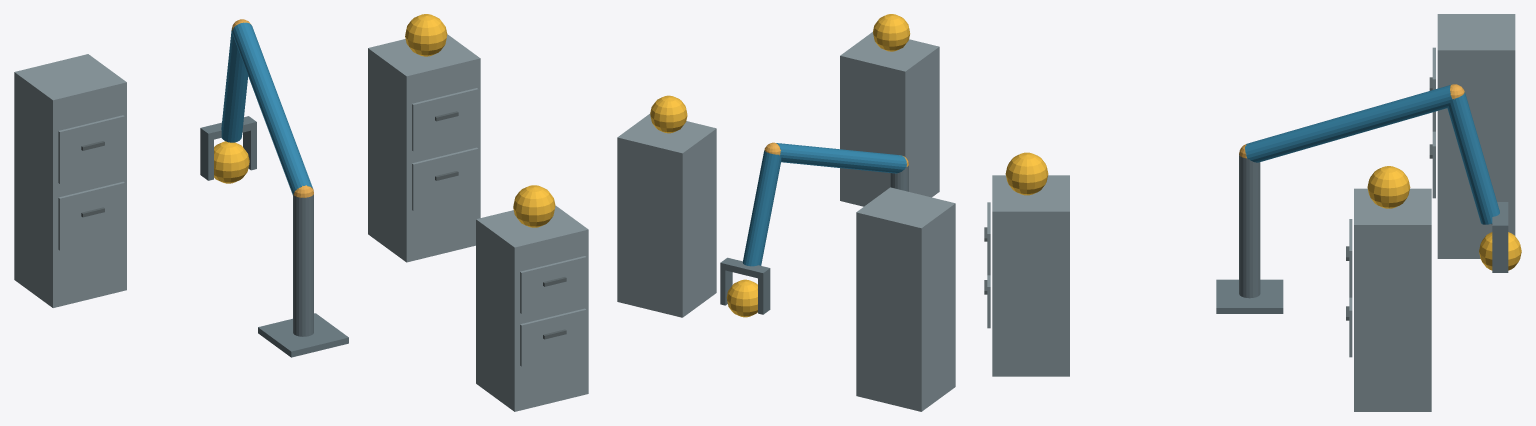
The picture shows the model from 3 angles, left to right: view 1: azimuth 30°, elevation 25°; view 2: azimuth 150°, elevation 25°; view 3: azimuth 270°, elevation 25°; orthographic projection. The views are drawn at different scales.
Parts seen in each view (by area): view 1: cabinet_3 body, cabinet_2 body, cabinet_1 body, moving link 1, cabinet_3 drawer front, cabinet_3 drawer front.001, cabinet_2 drawer front, cabinet_2 drawer front.001, fixed post, cabinet_1 drawer front, cabinet_1 drawer front.001, pedestal (+5 smaller); view 2: cabinet_3 body, cabinet_2 body, cabinet_1 body, moving link 1, moving link 2, released ball_2, released ball_1, ball ball_3, gripper bridge, gripper finger -1, gripper finger 1, fixed post; view 3: cabinet_2 body, cabinet_1 body, cabinet_3 body, moving link 1, fixed post, moving link 2, pedestal, released ball_1, released ball_2, ball ball_3, gripper finger 1.
Part boxes in pixels (x1=…): cabinet_3 body: x1=14, y1=54, x2=126, y2=307; cabinet_2 body: x1=368, y1=34, x2=480, y2=262; cabinet_1 body: x1=476, y1=205, x2=588, y2=411; moving link 1: x1=232, y1=22, x2=312, y2=194; cabinet_3 drawer front: x1=58, y1=181, x2=124, y2=250; cabinet_3 drawer front.001: x1=58, y1=115, x2=124, y2=183; cabinet_2 drawer front: x1=412, y1=147, x2=478, y2=210; cabinet_2 drawer front.001: x1=412, y1=88, x2=478, y2=151; fixed post: x1=293, y1=194, x2=313, y2=336; cabinet_1 drawer front: x1=520, y1=308, x2=586, y2=366; cabinet_1 drawer front.001: x1=520, y1=256, x2=586, y2=313; pedestal: x1=258, y1=313, x2=348, y2=357; cabinet_3 body: x1=856, y1=187, x2=955, y2=411; cabinet_2 body: x1=617, y1=114, x2=716, y2=317; cabinet_1 body: x1=840, y1=32, x2=939, y2=206; moving link 1: x1=776, y1=143, x2=906, y2=173; moving link 2: x1=742, y1=150, x2=781, y2=266; released ball_2: x1=650, y1=95, x2=687, y2=133; released ball_1: x1=873, y1=14, x2=910, y2=51; ball ball_3: x1=726, y1=279, x2=757, y2=317; gripper bridge: x1=720, y1=257, x2=770, y2=279; gripper finger -1: x1=758, y1=275, x2=770, y2=314; gripper finger 1: x1=720, y1=269, x2=732, y2=305; fixed post: x1=890, y1=165, x2=908, y2=191; cabinet_2 body: x1=1354, y1=188, x2=1431, y2=411; cabinet_1 body: x1=992, y1=175, x2=1069, y2=376; cabinet_3 body: x1=1437, y1=14, x2=1515, y2=258; moving link 1: x1=1245, y1=85, x2=1452, y2=162; fixed post: x1=1239, y1=154, x2=1260, y2=298; moving link 2: x1=1447, y1=92, x2=1499, y2=224; pedestal: x1=1216, y1=279, x2=1283, y2=313; released ball_1: x1=1005, y1=152, x2=1048, y2=195; released ball_2: x1=1367, y1=166, x2=1410, y2=208; ball ball_3: x1=1479, y1=232, x2=1521, y2=270; gripper finger 1: x1=1492, y1=233, x2=1508, y2=272.
Bounding box in the file's own units: 1.67 × 0.966 × 2.01.
